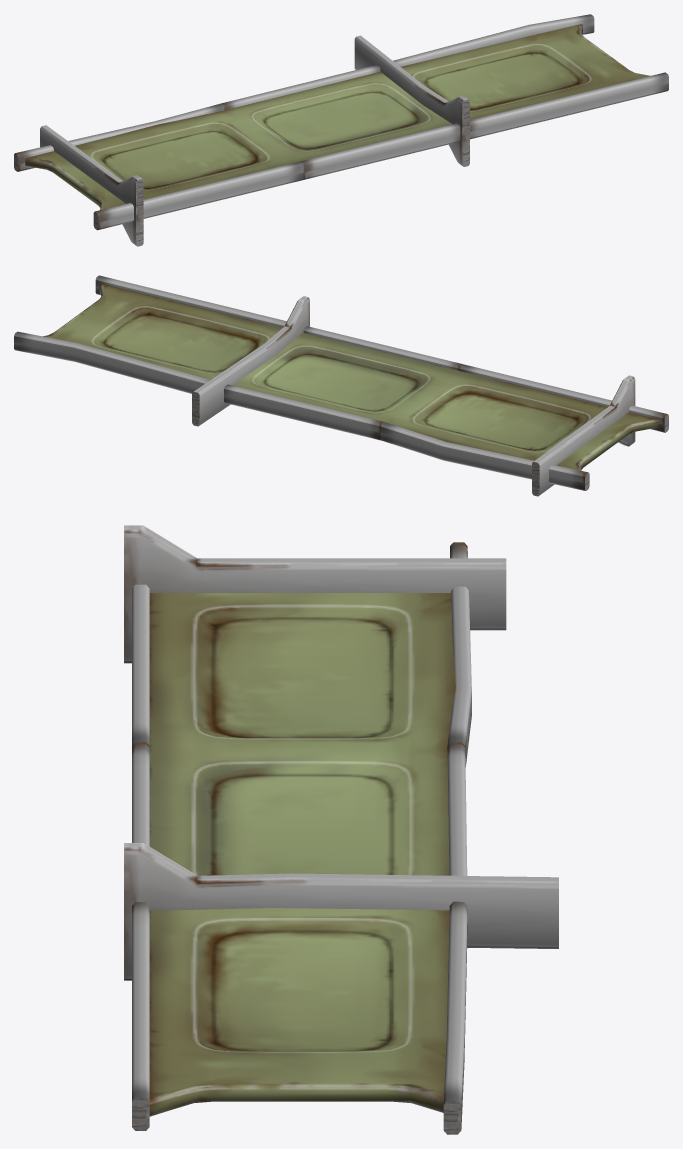
Rendered from HubWall6.FBX.
The picture shows the model from 3 angles, top to bottom: view 1: azimuth 30°, elevation 25°; view 2: azimuth 150°, elevation 25°; view 3: azimuth 270°, elevation 25°; orthographic projection. The views are drawn at different scales.
Visible parts, largest first — view 1: HUbWall6_LOD0; view 2: HUbWall6_LOD0; view 3: HUbWall6_LOD0.
Part boxes in pixels (x1=…): HUbWall6_LOD0: x1=14, y1=14, x2=668, y2=246; HUbWall6_LOD0: x1=14, y1=275, x2=668, y2=496; HUbWall6_LOD0: x1=124, y1=525, x2=558, y2=1134.
Size of what is drawn, in the model's own units: 14.71 by 1.64 by 4.84.
